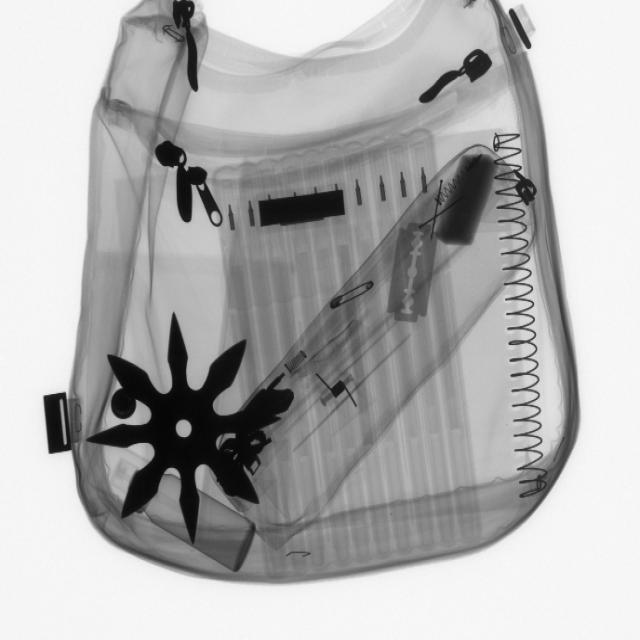BLADE: (383, 208, 443, 329)
SHURIKEN: (91, 315, 284, 549)
